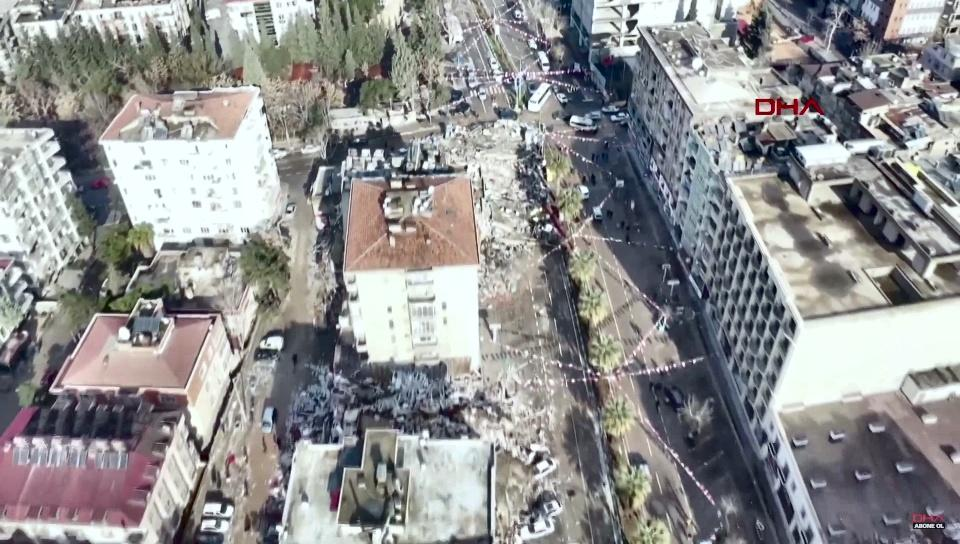kapali: (473, 108, 566, 297)
